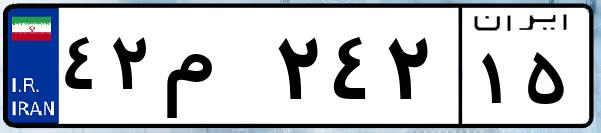1: (475, 38, 525, 113)
2: (270, 28, 330, 110), (385, 28, 445, 110), (110, 28, 158, 98)
4: (330, 28, 385, 110), (57, 26, 110, 100)
5: (525, 38, 570, 115)
م: (158, 20, 270, 120)
